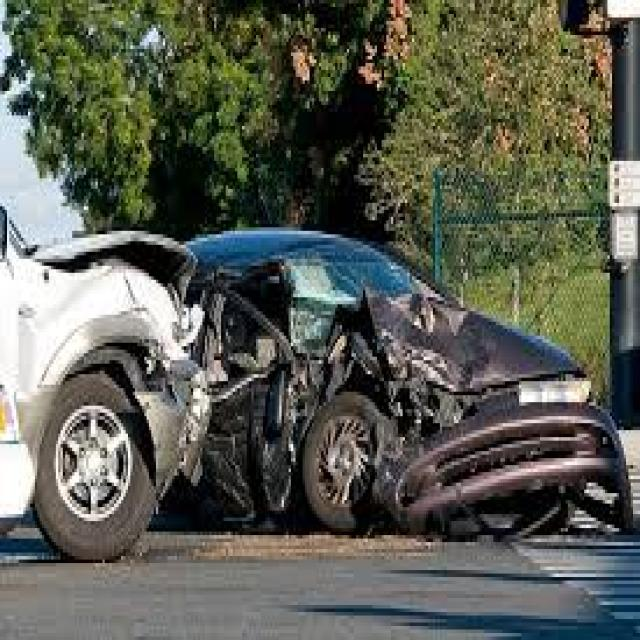car-moderate-accident: (4, 127, 623, 594)
